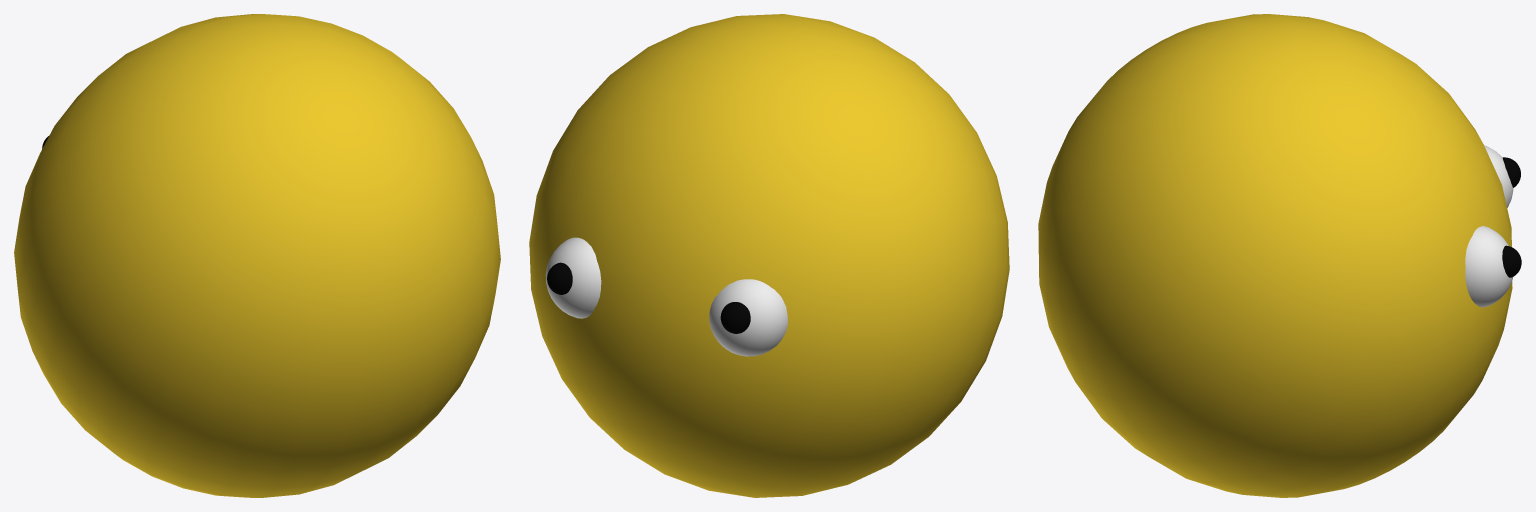
Rendered from gegner3.fbx.
3 renders of one model, left to right at view 1: azimuth 30°, elevation 25°; view 2: azimuth 150°, elevation 25°; view 3: azimuth 270°, elevation 25°, orthographic.
Visible parts, largest first — view 1: Sphere.004; view 2: Sphere.004; view 3: Sphere.004.
Boxes of the visible parts, x1,y1,x2,y2 form: Sphere.004: [14, 14, 500, 497]; Sphere.004: [529, 14, 1009, 497]; Sphere.004: [1038, 14, 1521, 497].
Size of the model in its own units: 100 by 100 by 100.
